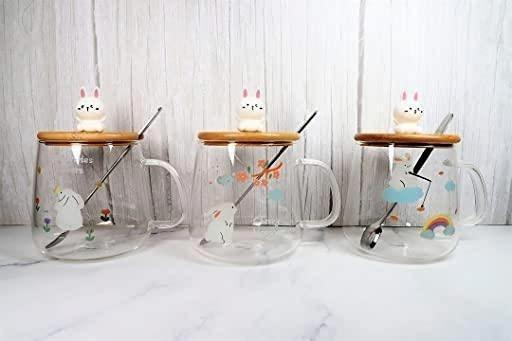glass-mug: (27, 128, 191, 267), (188, 129, 346, 269), (342, 128, 495, 268)
